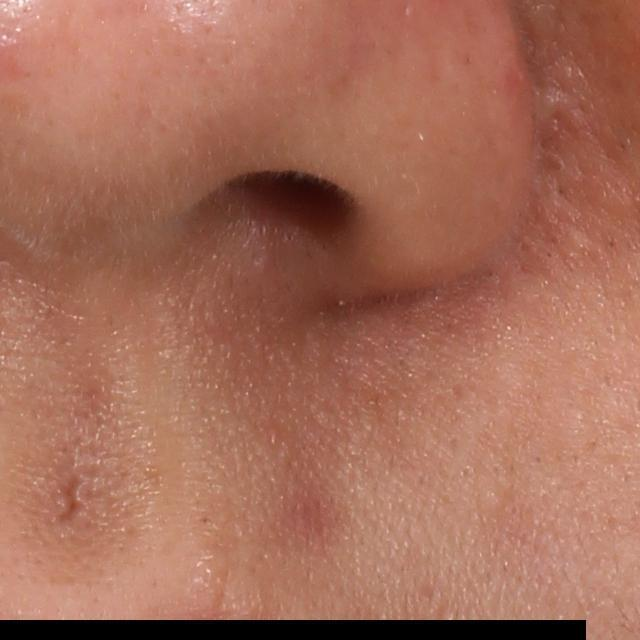atrophic_scar: (55, 467, 89, 535)
